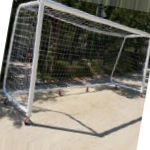goals: (5, 1, 150, 119)
